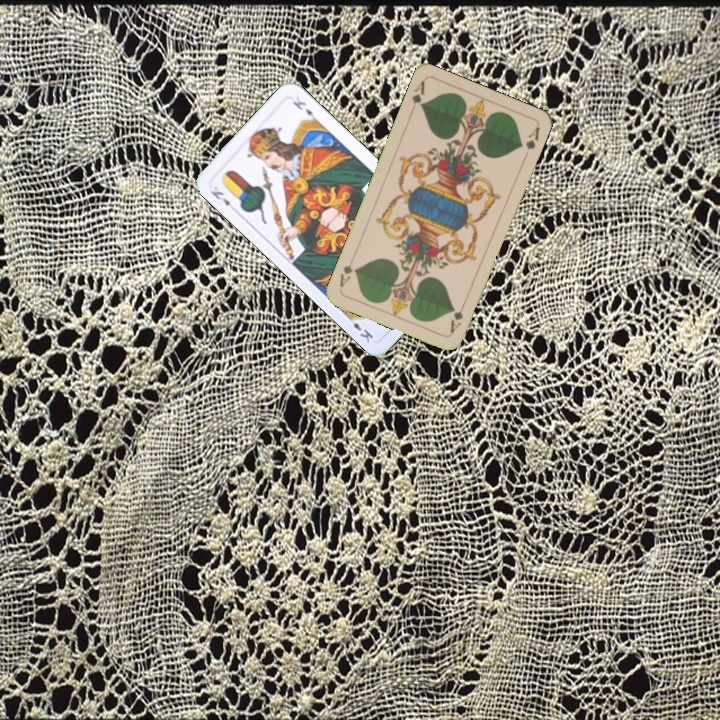EK: (207, 187, 233, 209)
GA: (446, 297, 468, 336), (406, 77, 427, 115)
